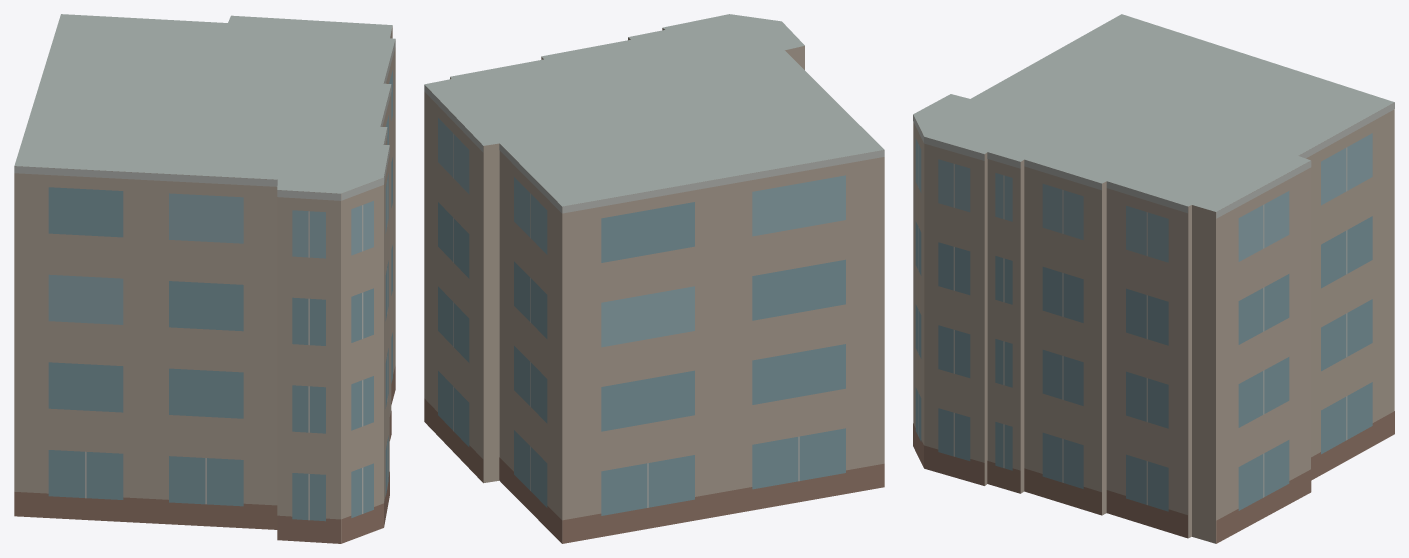
File: survey-upis-32718469.glb
The picture shows the model from 3 angles, left to right: view 1: azimuth 30°, elevation 25°; view 2: azimuth 150°, elevation 25°; view 3: azimuth 270°, elevation 25°; orthographic projection. The views are drawn at different scales.
Visible parts, largest first — view 1: survey-upis-32718469.tmp; view 2: survey-upis-32718469.tmp; view 3: survey-upis-32718469.tmp.
Part boxes in pixels (<box>): survey-upis-32718469.tmp: <box>14,14,395,543</box>; survey-upis-32718469.tmp: <box>424,14,884,543</box>; survey-upis-32718469.tmp: <box>913,14,1394,543</box>.
Size of the model in its own units: 15.11 by 11.8 by 15.53.
